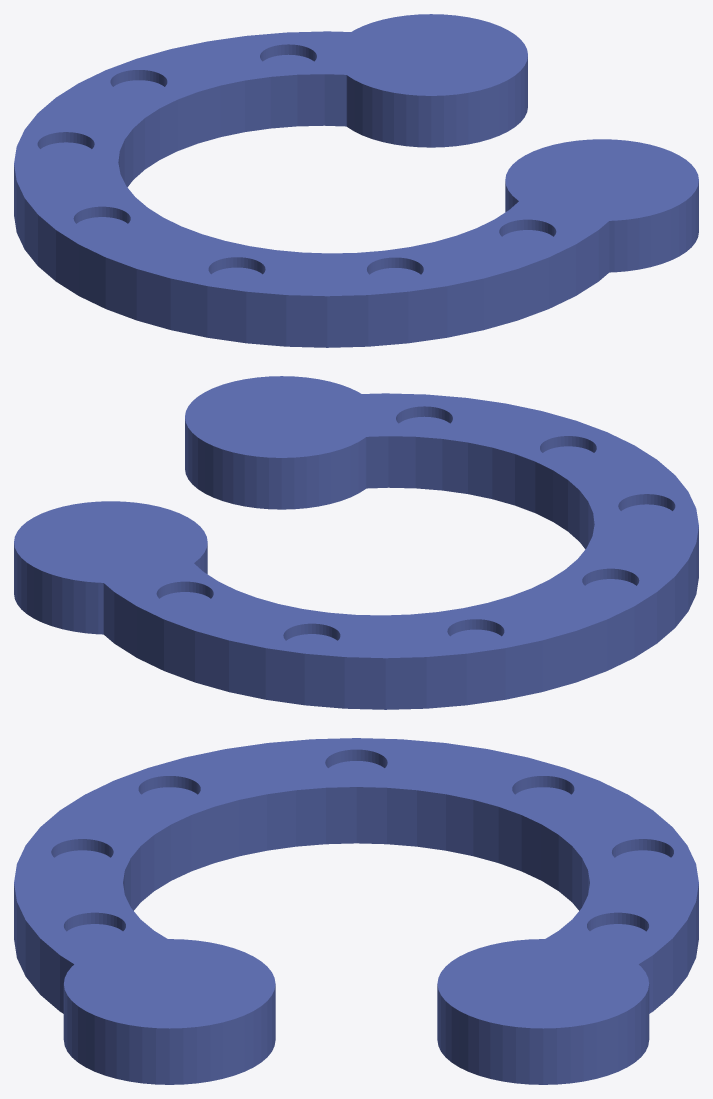
File: horseshoe.glb
3 views of the same model, one above another, from view 1: azimuth 30°, elevation 25°; view 2: azimuth 150°, elevation 25°; view 3: azimuth 270°, elevation 25° (orthographic). The views are drawn at different scales.
Visible parts, largest first — view 1: Mesh_Mesh_head_geo001_lambert2SG001; view 2: Mesh_Mesh_head_geo001_lambert2SG001; view 3: Mesh_Mesh_head_geo001_lambert2SG001.
Part boxes in pixels (x1,y1,x2,y2): Mesh_Mesh_head_geo001_lambert2SG001: [14, 14, 698, 347]; Mesh_Mesh_head_geo001_lambert2SG001: [14, 376, 698, 709]; Mesh_Mesh_head_geo001_lambert2SG001: [14, 738, 698, 1084].
Size of the model in its own units: 55.19 by 5 by 55.
